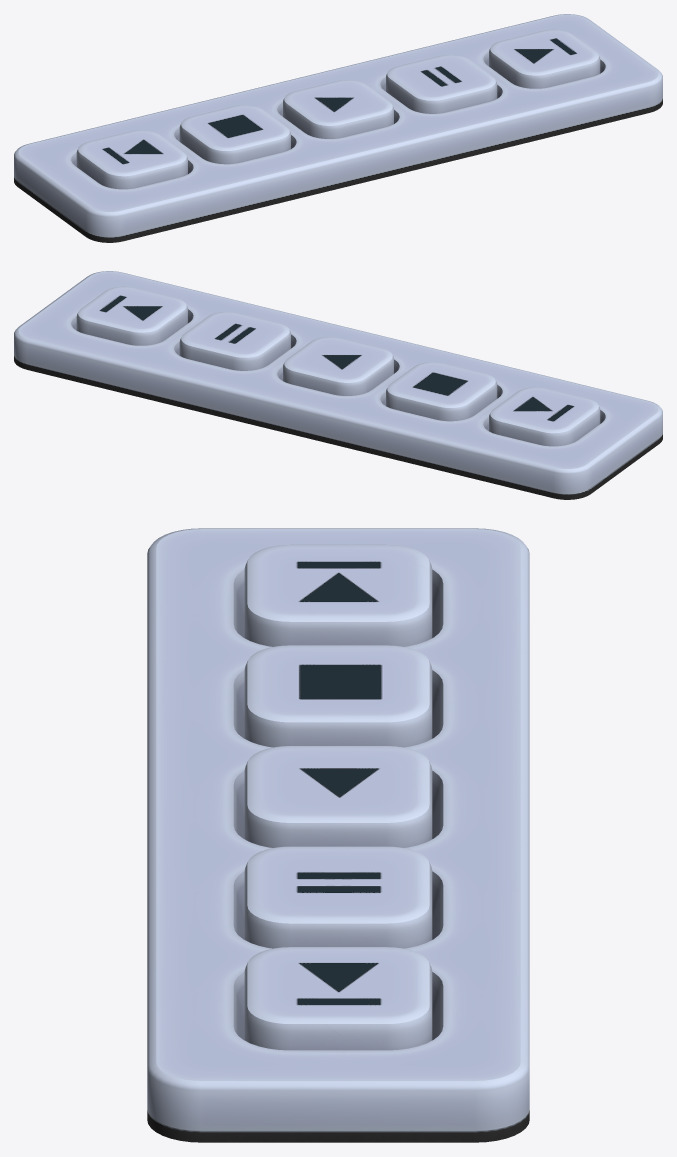
The model's file is Controller.glb.
3 views of the same model, one above another, from view 1: azimuth 30°, elevation 25°; view 2: azimuth 150°, elevation 25°; view 3: azimuth 270°, elevation 25° (orthographic). The views are drawn at different scales.
Visible parts, largest first — view 1: Controller_base, Controller_button_backward, Controller_button_forward, Controller_button_stop, Controller_button_pause, Controller_button_play; view 2: Controller_base, Controller_button_backward, Controller_button_forward, Controller_button_stop, Controller_button_pause, Controller_button_play; view 3: Controller_base, Controller_button_forward, Controller_button_backward, Controller_button_pause, Controller_button_stop, Controller_button_play.
Boxes of the visible parts, x1=… form: Controller_base: x1=14, y1=14, x2=662, y2=242; Controller_button_backward: x1=76, y1=130, x2=187, y2=189; Controller_button_forward: x1=489, y1=29, x2=600, y2=88; Controller_button_stop: x1=179, y1=105, x2=290, y2=164; Controller_button_pause: x1=386, y1=55, x2=497, y2=113; Controller_button_play: x1=283, y1=80, x2=393, y2=138; Controller_base: x1=14, y1=271, x2=662, y2=499; Controller_button_backward: x1=489, y1=387, x2=600, y2=446; Controller_button_forward: x1=76, y1=286, x2=187, y2=345; Controller_button_stop: x1=386, y1=362, x2=497, y2=421; Controller_button_pause: x1=179, y1=312, x2=290, y2=370; Controller_button_play: x1=283, y1=337, x2=393, y2=395; Controller_base: x1=147, y1=528, x2=529, y2=1142; Controller_button_forward: x1=244, y1=947, x2=432, y2=1050; Controller_button_backward: x1=244, y1=544, x2=432, y2=646; Controller_button_pause: x1=244, y1=846, x2=432, y2=948; Controller_button_stop: x1=244, y1=645, x2=432, y2=747; Controller_button_play: x1=244, y1=746, x2=432, y2=847.
Size of the model in its own units: 0.2207 by 0.0162 by 0.0638.
Materials: 6 (6 with a texture image).
